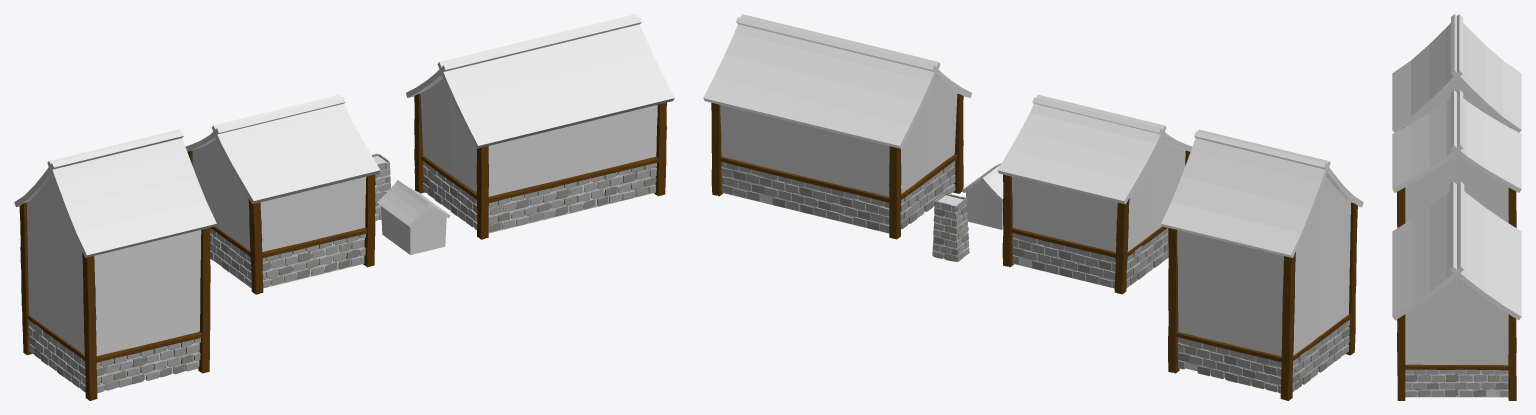
The model's file is BPW2_BackgroundHomes.fbx.
3 renders of one model, left to right at view 1: azimuth 30°, elevation 25°; view 2: azimuth 150°, elevation 25°; view 3: azimuth 270°, elevation 25°, orthographic. The views are drawn at different scales.
Parts seen in each view (by area): view 1: Plane, Cube.002, Plane.002, Cube, Plane.001, Cube.001, Bricks2, Bricks2.001, Pillar4.006, Bricks2.007, Pillar4.004, Cube.003 (+7 smaller); view 2: Plane, Cube.002, Plane.002, Cube, Plane.001, Cube.001, Bricks2, Bricks2.001, Bricks2.007, Pillar4.006, Pillar4.004, Bricks2.003 (+7 smaller); view 3: Plane, Plane.002, Cube, Plane.001, Cube.001, Bricks2, Pillar4.004, Cube.002, Pillar4.008, Pillar4.013, Pillar4.018.
Boxes of the visible parts, x1,y1,x2,y2 form: Plane: (406, 14, 674, 148); Cube.002: (27, 177, 201, 389); Plane.002: (14, 129, 216, 257); Cube: (420, 78, 657, 233); Plane.001: (185, 94, 380, 204); Cube.001: (192, 139, 366, 288); Bricks2: (422, 161, 656, 232); Bricks2.001: (28, 319, 200, 392); Pillar4.006: (19, 202, 210, 400); Bricks2.007: (210, 228, 365, 287); Pillar4.004: (414, 93, 666, 239); Cube.003: (381, 206, 446, 254); Plane: (703, 14, 971, 148); Cube.002: (1177, 177, 1350, 390); Plane.002: (1161, 129, 1363, 257); Cube: (720, 78, 957, 233); Plane.001: (997, 94, 1192, 204); Cube.001: (1012, 139, 1185, 288); Bricks2: (721, 161, 955, 233); Bricks2.001: (1177, 320, 1349, 393); Bricks2.007: (1012, 228, 1168, 288); Pillar4.006: (1168, 202, 1357, 400); Pillar4.004: (711, 93, 963, 239); Bricks2.003: (933, 193, 969, 261); Plane: (1392, 181, 1521, 320); Plane.002: (1392, 14, 1521, 132); Cube: (1405, 276, 1508, 397); Plane.001: (1392, 90, 1521, 192); Cube.001: (1405, 154, 1508, 222); Bricks2: (1405, 369, 1508, 397); Pillar4.004: (1397, 314, 1516, 400); Cube.002: (1405, 80, 1508, 126); Pillar4.008: (1405, 364, 1508, 370); Pillar4.013: (1397, 187, 1405, 227); Pillar4.018: (1508, 187, 1516, 227).
Size of the model in its own units: 2000 by 713 by 428.
